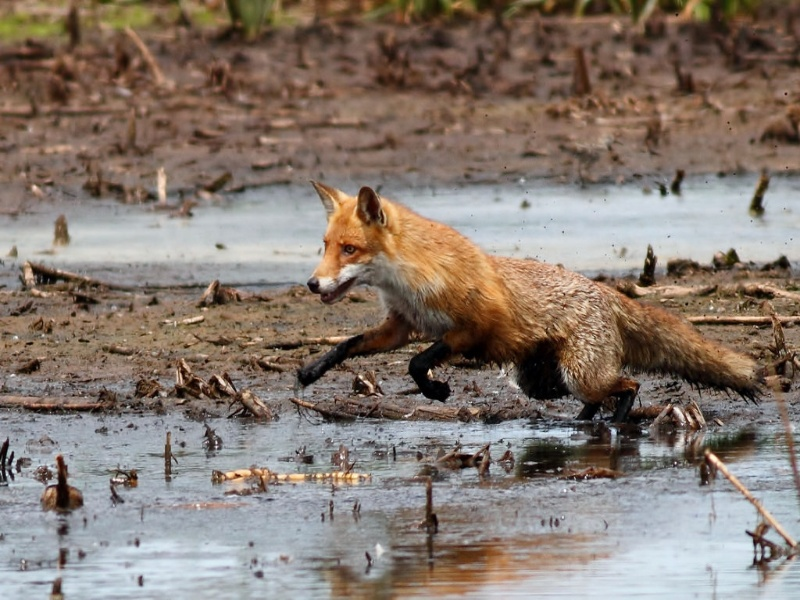fox: (291, 179, 771, 444)
